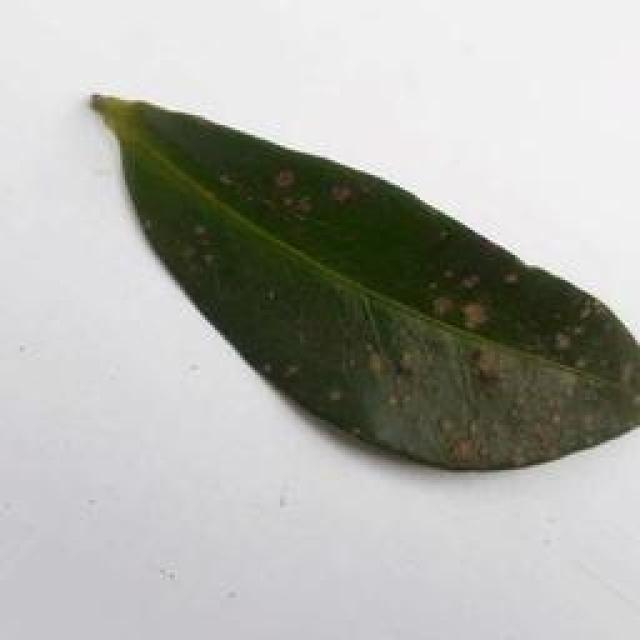Algal Leaf Spot: (85, 82, 640, 482)
